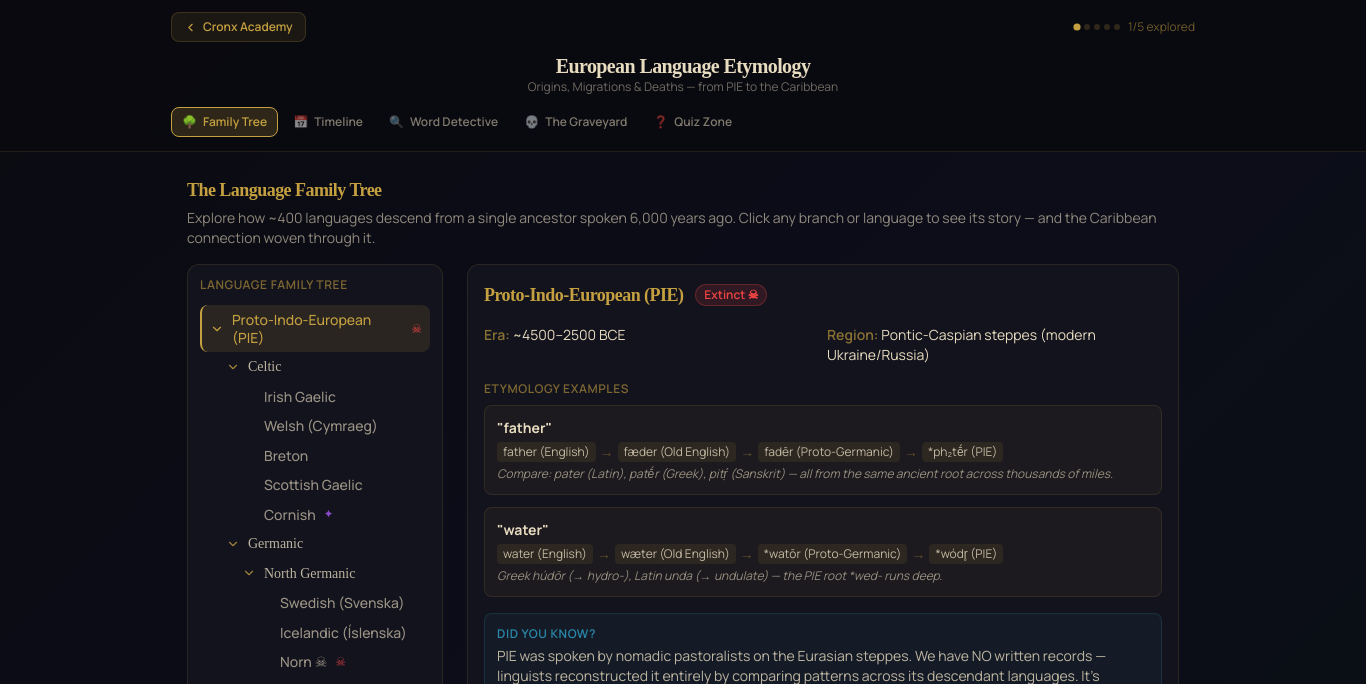
Scenario: EtymologyInteractive › Section 2: Timeline › navigates to Timeline tab
This screenshot has width=1366, height=684.
Click the text "Timeline".
click(339, 122)  # box x1=314 y1=114 x2=363 y2=130
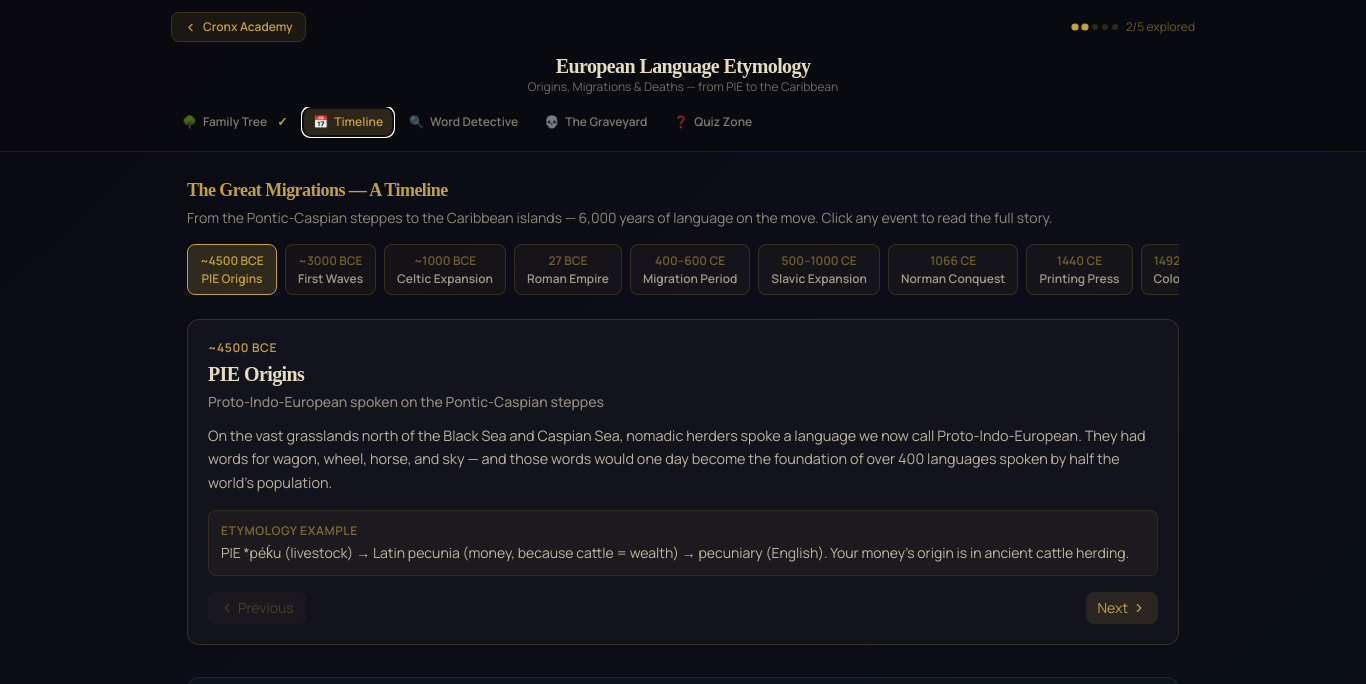
Now the heading "The Great Migrations — A Timeline" is shown, box x1=187 y1=180 x2=448 y2=200
